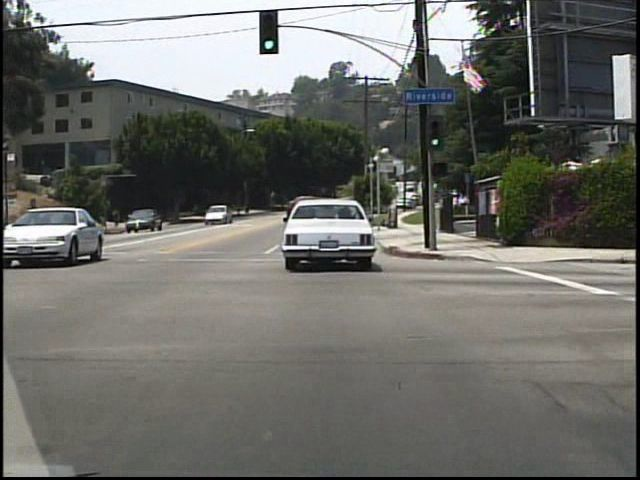person: (114, 207, 124, 229)
